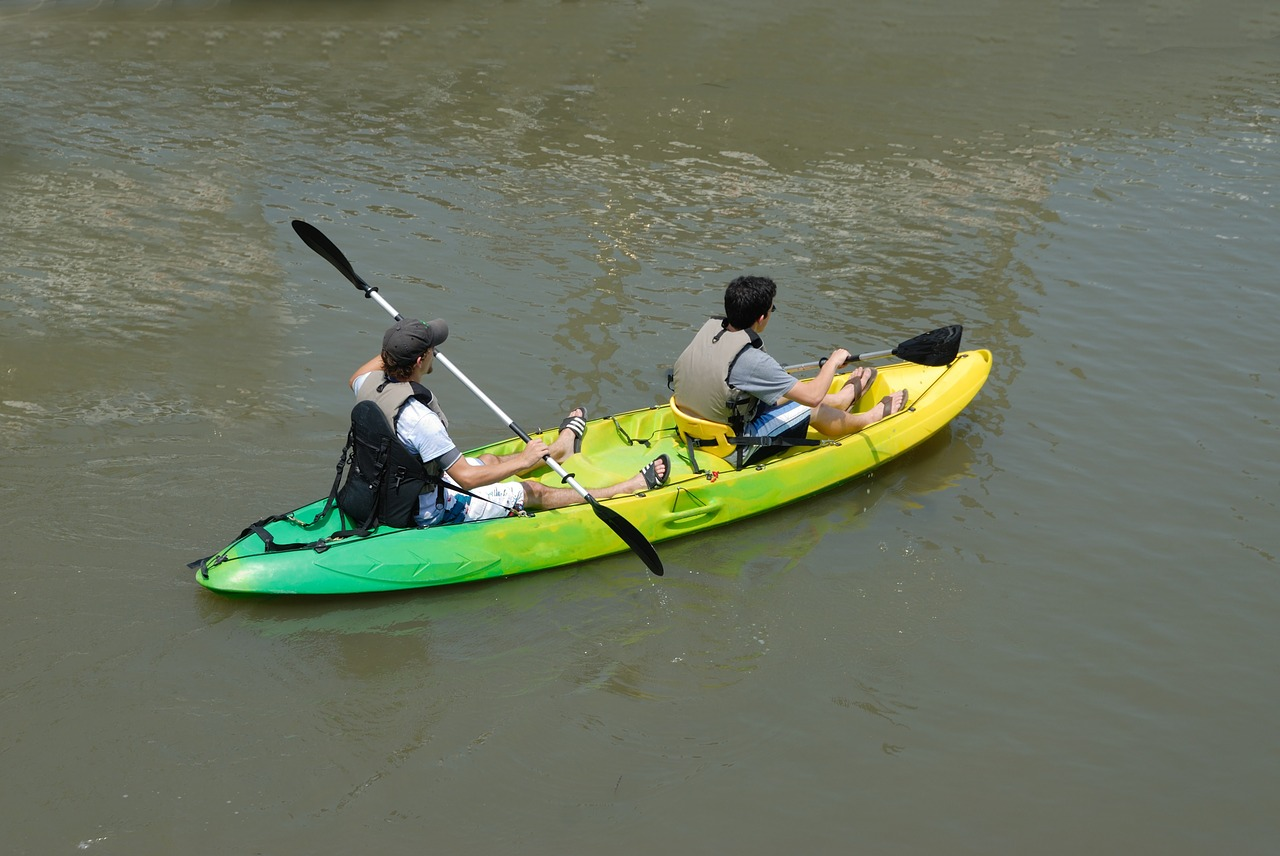kayak: (184, 342, 995, 606)
